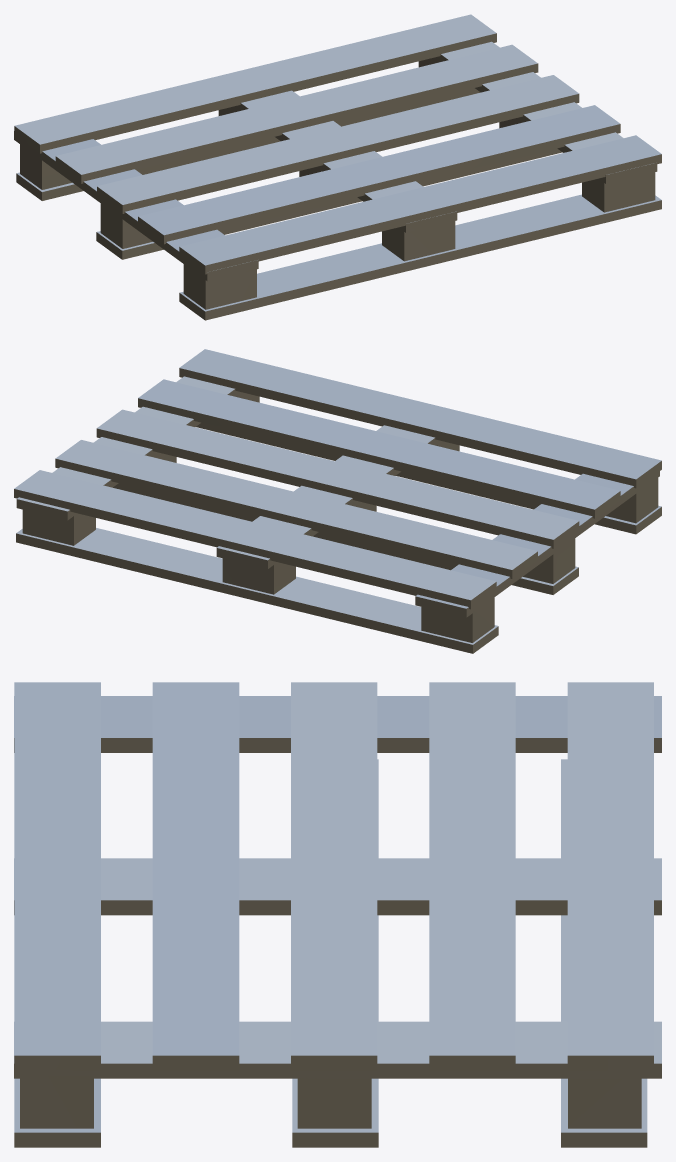
File: pallet.glb
3 renders of one model, top to bottom at view 1: azimuth 30°, elevation 25°; view 2: azimuth 150°, elevation 25°; view 3: azimuth 270°, elevation 25°, orthographic. The views are drawn at different scales.
Visible parts, largest first — view 1: Prop; view 2: Prop; view 3: Prop.
Part boxes in pixels (x1,y1,x2,y2): Prop: [14, 14, 661, 320]; Prop: [14, 349, 661, 653]; Prop: [14, 682, 661, 1147].
Size of the model in its own units: 1.22 by 0.14 by 0.8925.
